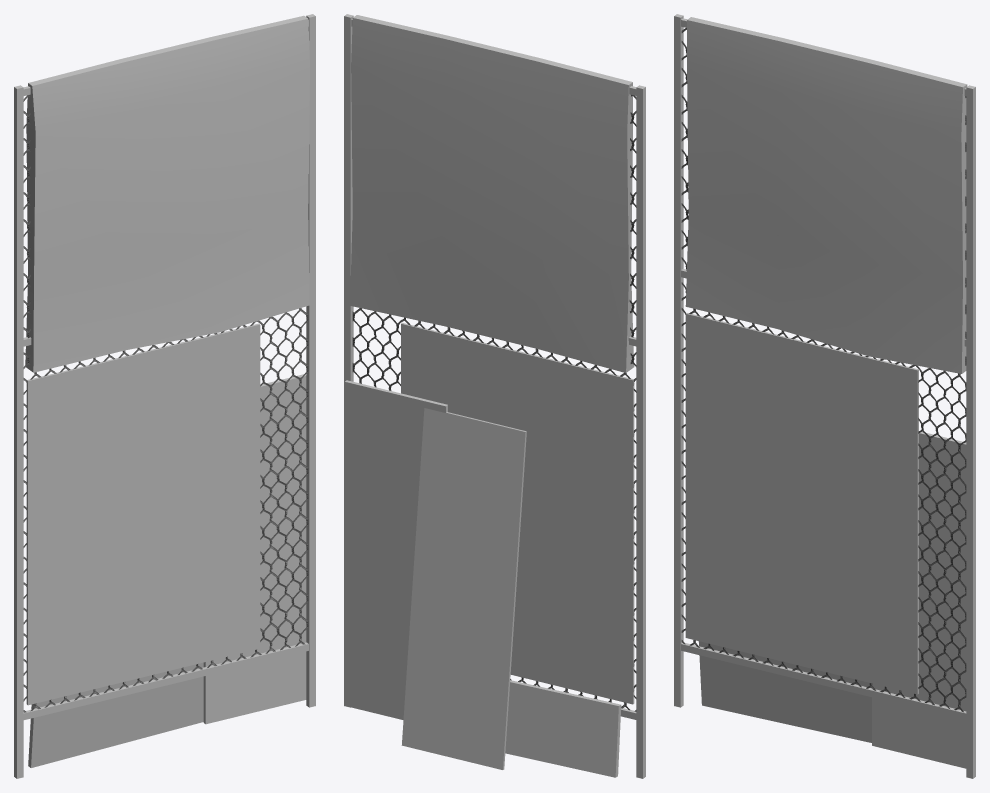
File: mallbil_sidefence01c.fbx
3 renders of one model, left to right at view 1: azimuth 30°, elevation 25°; view 2: azimuth 150°, elevation 25°; view 3: azimuth 330°, elevation 25°, orthographic.
Parts seen in each view (by area): view 1: mallbil_sidefence01c; view 2: mallbil_sidefence01c; view 3: mallbil_sidefence01c.
Boxes of the visible parts, x1,y1,x2,y2 form: mallbil_sidefence01c: (14, 14, 315, 778); mallbil_sidefence01c: (344, 14, 645, 778); mallbil_sidefence01c: (674, 14, 975, 778).
Size of the model in its own units: 154 by 341 by 30.15.
